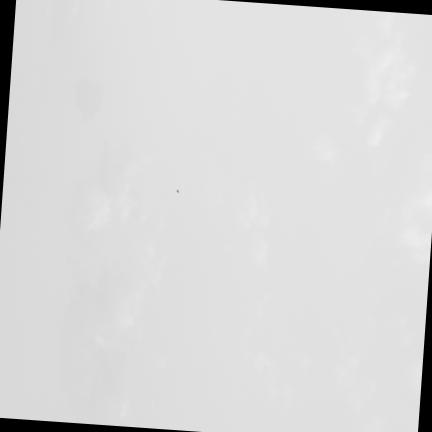Shahed: (174, 189, 179, 193)
